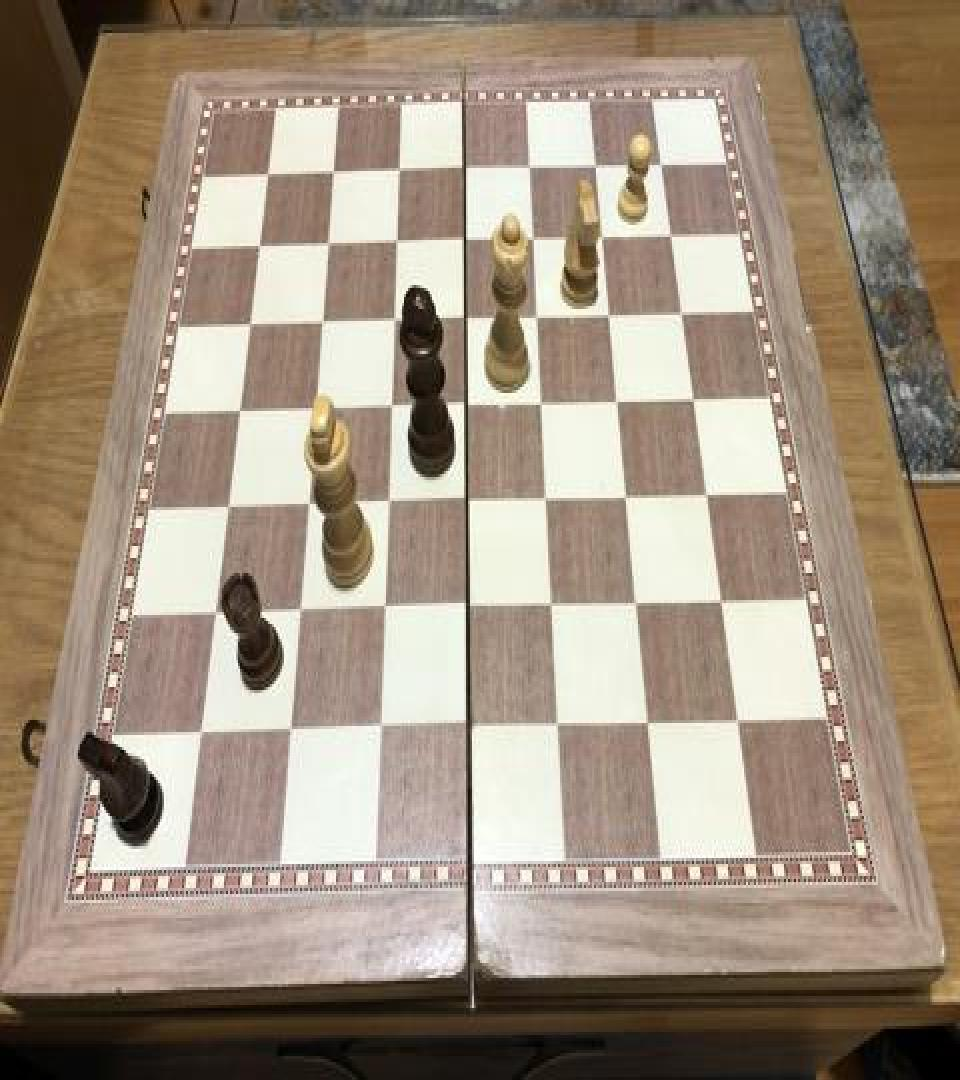xcorner: (625, 586, 649, 623), (205, 595, 229, 632), (369, 712, 393, 749), (583, 147, 607, 183), (518, 148, 542, 184), (453, 150, 477, 186), (388, 152, 412, 188), (323, 154, 347, 190), (258, 156, 282, 192), (659, 218, 683, 254), (590, 219, 614, 255), (522, 220, 546, 256), (453, 222, 477, 258), (385, 224, 409, 260), (317, 225, 341, 261), (249, 226, 273, 262), (669, 296, 693, 332), (598, 297, 622, 333), (526, 298, 550, 334), (454, 300, 478, 336), (383, 302, 407, 338), (311, 303, 335, 339), (240, 304, 264, 340), (682, 381, 706, 417), (606, 382, 630, 418), (530, 386, 554, 422), (455, 387, 479, 423), (380, 388, 404, 424), (305, 390, 329, 426), (229, 392, 253, 428), (695, 477, 719, 513), (615, 478, 639, 514), (535, 482, 559, 518), (456, 483, 480, 519), (376, 484, 400, 520), (297, 486, 321, 522), (218, 488, 242, 524), (710, 585, 734, 621), (541, 588, 565, 624), (457, 590, 481, 626), (373, 591, 397, 627), (289, 592, 313, 628), (727, 705, 751, 741), (637, 706, 661, 742), (547, 708, 571, 744), (458, 710, 482, 746), (280, 714, 304, 750), (191, 716, 215, 752), (649, 146, 673, 181)
